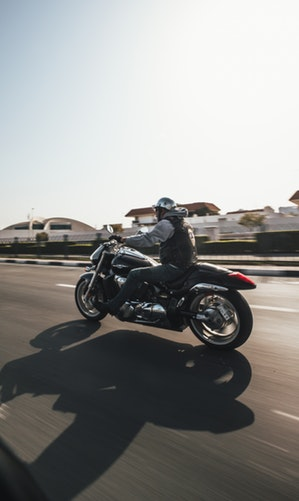helmet: (149, 197, 176, 214)
